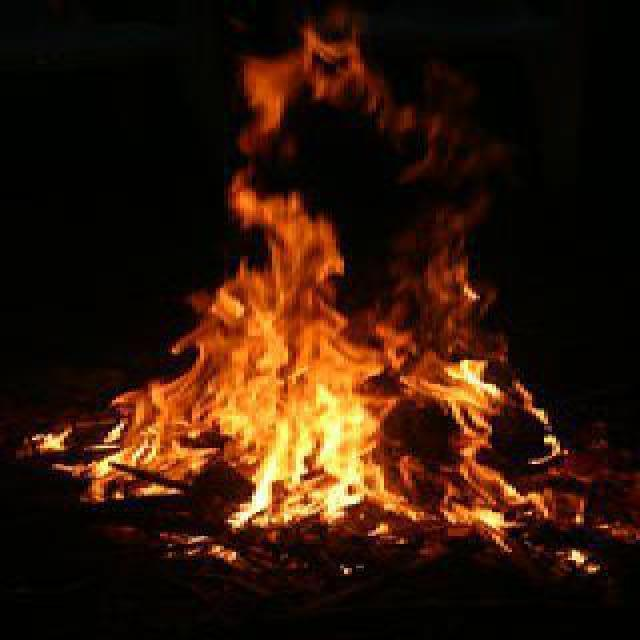Fire: (48, 34, 590, 568)
